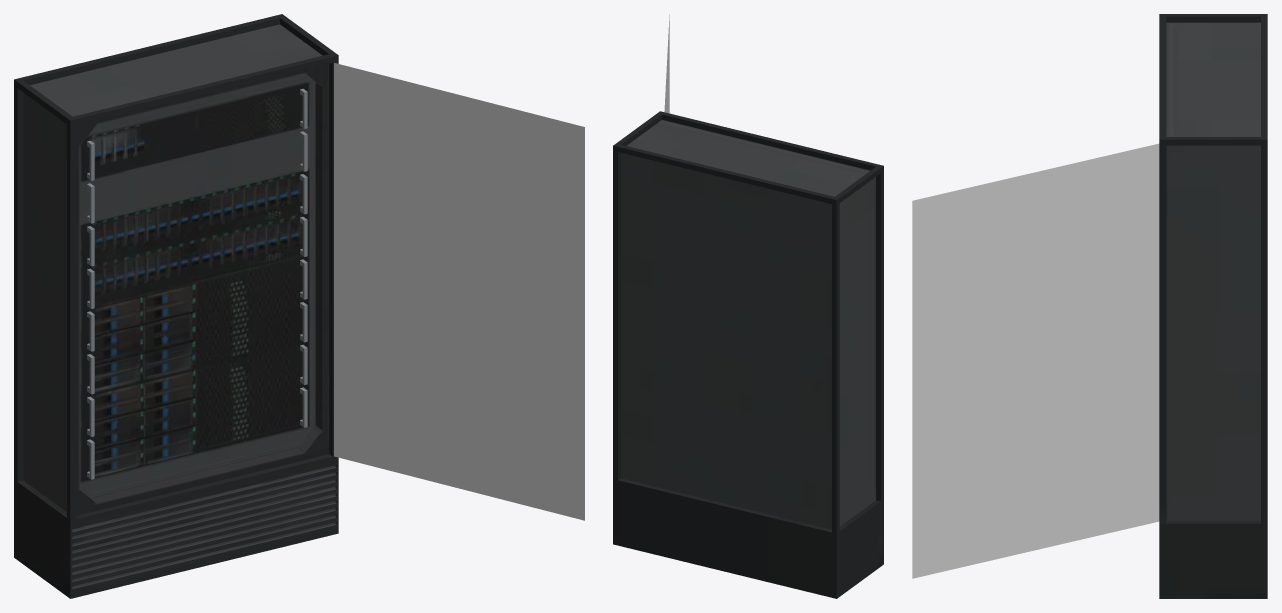
Rendered from rack.glb.
3 views of the same model, side by side, from view 1: azimuth 30°, elevation 25°; view 2: azimuth 150°, elevation 25°; view 3: azimuth 270°, elevation 25° (orthographic). The views are drawn at different scales.
Parts seen in each view (by area): view 1: Servidores, Cristal_Servidores; view 2: Servidores; view 3: Cristal_Servidores, Servidores.
Part boxes in pixels (x1,y1,x2,y2): Servidores: (14, 14, 338, 598); Cristal_Servidores: (334, 63, 584, 520); Servidores: (613, 111, 883, 598); Cristal_Servidores: (912, 143, 1159, 578); Servidores: (1159, 14, 1267, 598).
Bounding box in the file's own units: 2.26 × 2.67 × 1.87.
Materials: 3 (2 with a texture image).
